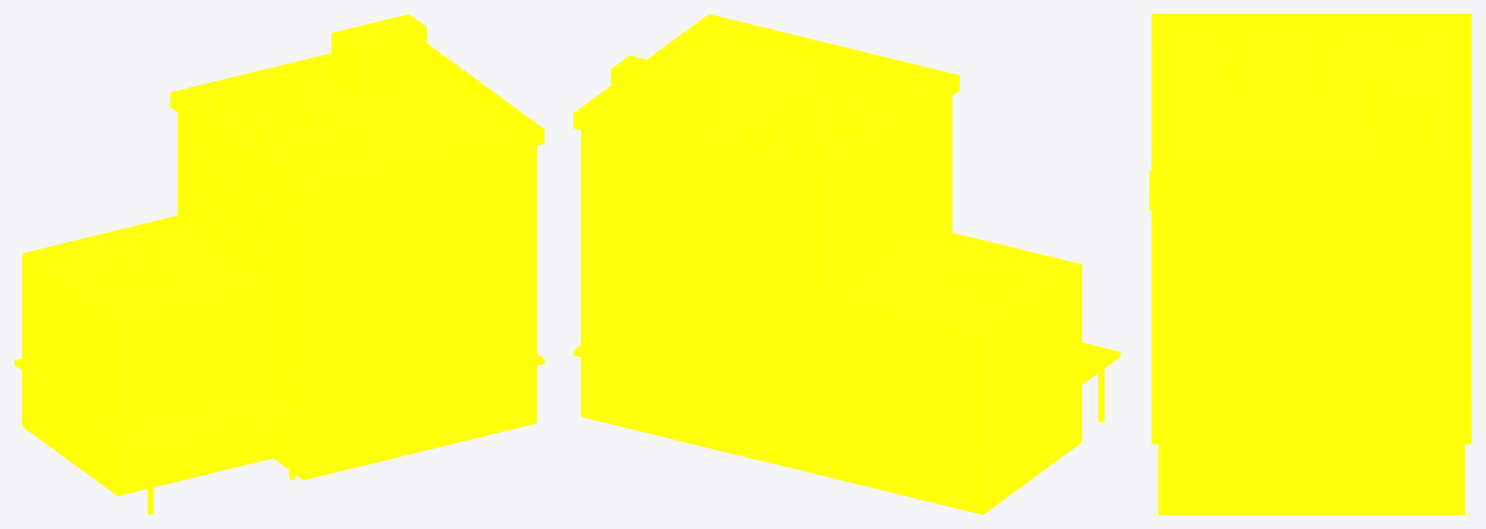
The model's file is building-hospital.glb.
The picture shows the model from 3 angles, left to right: view 1: azimuth 30°, elevation 25°; view 2: azimuth 150°, elevation 25°; view 3: azimuth 270°, elevation 25°; orthographic projection. The views are drawn at different scales.
Parts seen in each view (by area): view 1: building-hospital; view 2: building-hospital; view 3: building-hospital.
Boxes of the visible parts, left/top/right/bottom form: building-hospital: left=14, top=14, right=544, bottom=514; building-hospital: left=573, top=14, right=1120, bottom=514; building-hospital: left=1149, top=14, right=1471, bottom=514.
Size of the model in its own units: 25.6 by 20.3 by 14.7.
Materials: 1 (1 with a texture image).
